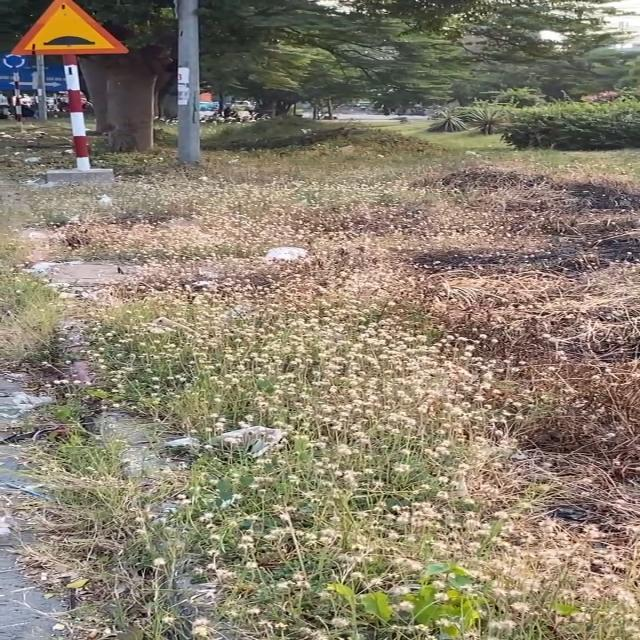221-duong-go-ghe: (11, 0, 132, 56)
303-noi-giao-nhau-chay-theo-vong-xuyen: (1, 52, 28, 70)
